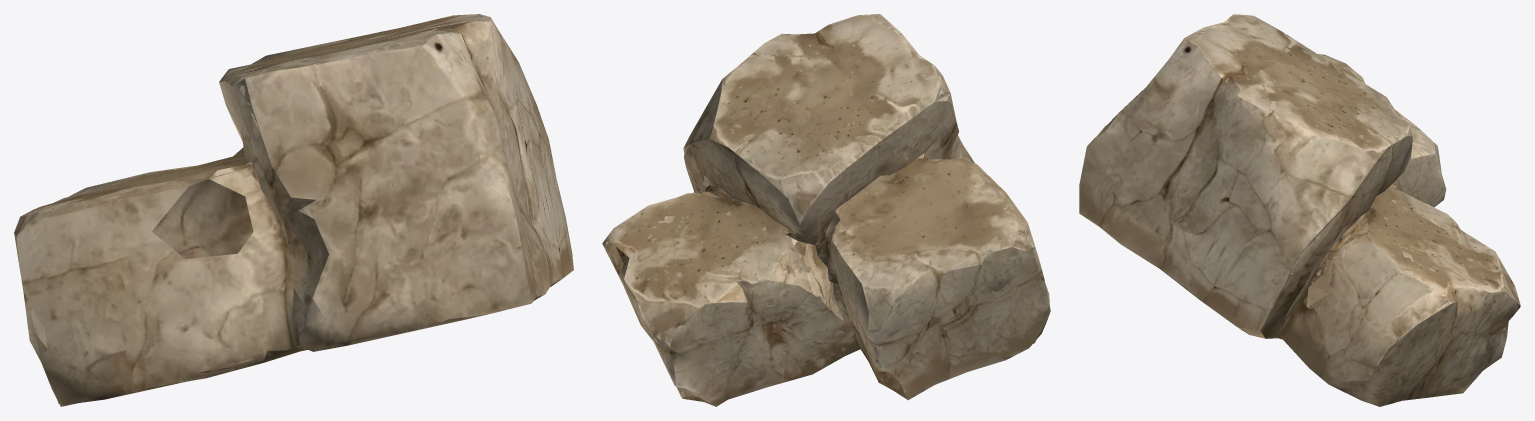
Rendered from rock_outcrop_small.glb.
3 views of the same model, side by side, from view 1: azimuth 30°, elevation 25°; view 2: azimuth 150°, elevation 25°; view 3: azimuth 270°, elevation 25° (orthographic). The views are drawn at different scales.
Visible parts, largest first — view 1: LowPoly; view 2: LowPoly; view 3: LowPoly.
Boxes of the visible parts, x1,y1,x2,y2 form: LowPoly: (14,14,573,406); LowPoly: (602,14,1050,406); LowPoly: (1079,14,1520,406).
Size of the model in its own units: 0.8922 by 0.6474 by 0.8039.
Materials: 1 (1 with a texture image).
